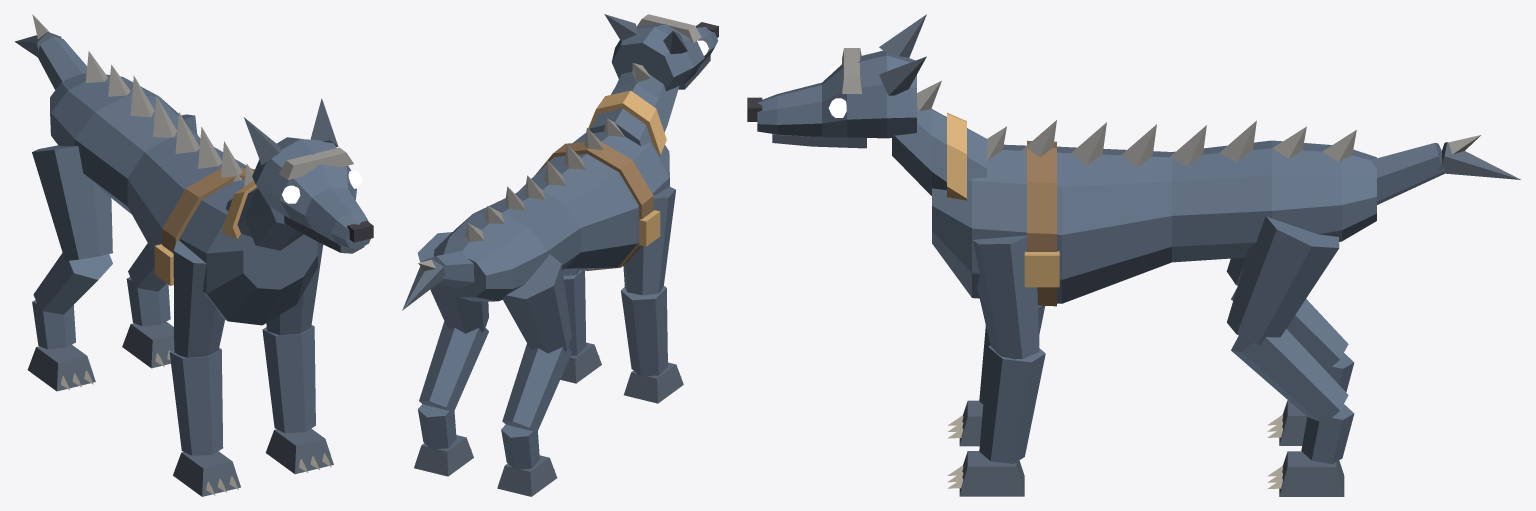
The model's file is cr-gloomhound.glb.
3 renders of one model, left to right at view 1: azimuth 30°, elevation 25°; view 2: azimuth 150°, elevation 25°; view 3: azimuth 270°, elevation 25°, orthographic. The views are drawn at different scales.
Visible parts, largest first — view 1: body, head, leg_thigh_rr, leg_lower_fr, leg_lower_fl, leg_upper_fr, neck, leg_shin_rr, paw_rr, paw_fr, paw_fl, paw_rl (+7 smaller); view 2: body, head, neck, leg_thigh_rr, leg_shin_rr, leg_shin_rl, leg_lower_fr, leg_upper_fr, leg_thigh_rl, paw_rl, paw_rr, paw_fr (+6 smaller); view 3: body, head, leg_thigh_rl, leg_upper_fl, neck, leg_lower_fl, leg_shin_rl, tail_base, paw_rl, paw_fl, leg_shin_rr, leg_hock_rl (+4 smaller).
Part boxes in pixels (bbox=[...]): body: bbox=[50, 51, 317, 325]; head: bbox=[244, 98, 373, 249]; leg_thigh_rr: bbox=[32, 145, 112, 260]; leg_lower_fr: bbox=[169, 348, 223, 455]; leg_lower_fl: bbox=[262, 325, 315, 433]; leg_upper_fr: bbox=[173, 241, 224, 357]; neck: bbox=[221, 180, 303, 250]; leg_shin_rr: bbox=[33, 253, 112, 314]; paw_rr: bbox=[27, 345, 95, 391]; paw_fr: bbox=[173, 451, 240, 496]; paw_fl: bbox=[265, 428, 333, 474]; paw_rl: bbox=[122, 321, 174, 368]; body: bbox=[434, 118, 669, 301]; head: bbox=[604, 14, 718, 91]; neck: bbox=[588, 63, 679, 156]; leg_thigh_rr: bbox=[503, 254, 571, 353]; leg_shin_rr: bbox=[502, 343, 572, 434]; leg_shin_rl: bbox=[419, 321, 488, 413]; leg_lower_fr: bbox=[621, 286, 667, 376]; leg_upper_fr: bbox=[623, 186, 675, 295]; leg_thigh_rl: bbox=[417, 232, 488, 333]; paw_rl: bbox=[414, 435, 473, 476]; paw_rr: bbox=[497, 455, 557, 496]; paw_fr: bbox=[624, 362, 683, 403]; body: bbox=[932, 120, 1376, 306]; head: bbox=[747, 14, 926, 138]; leg_thigh_rl: bbox=[1227, 216, 1339, 344]; leg_upper_fl: bbox=[972, 235, 1039, 359]; neck: bbox=[892, 80, 986, 200]; leg_lower_fl: bbox=[979, 345, 1045, 463]; leg_shin_rl: bbox=[1231, 329, 1348, 424]; tail_base: bbox=[1370, 142, 1444, 204]; paw_rl: bbox=[1267, 451, 1344, 496]; paw_fl: bbox=[947, 451, 1024, 496]; leg_shin_rr: bbox=[1231, 288, 1348, 370]; leg_hock_rl: bbox=[1301, 404, 1354, 463].
Size of what is drawn, in the model's own units: 0.3953 by 0.94 by 1.55.
